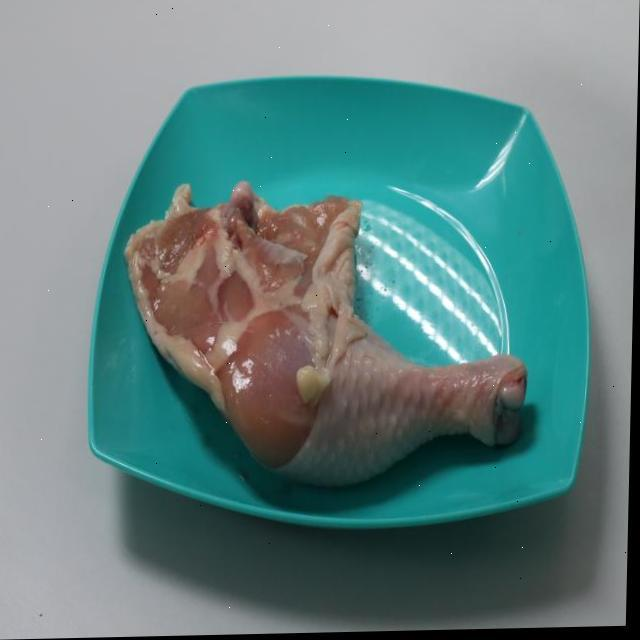quater: (144, 184, 524, 485)
